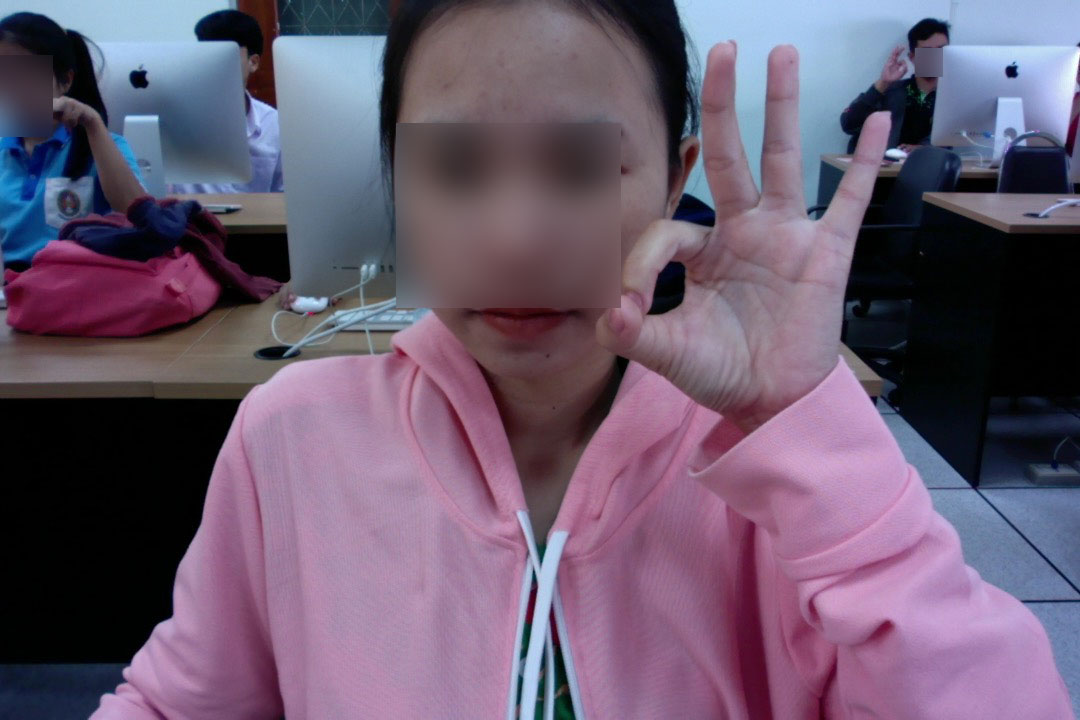for: (585, 32, 909, 451)
